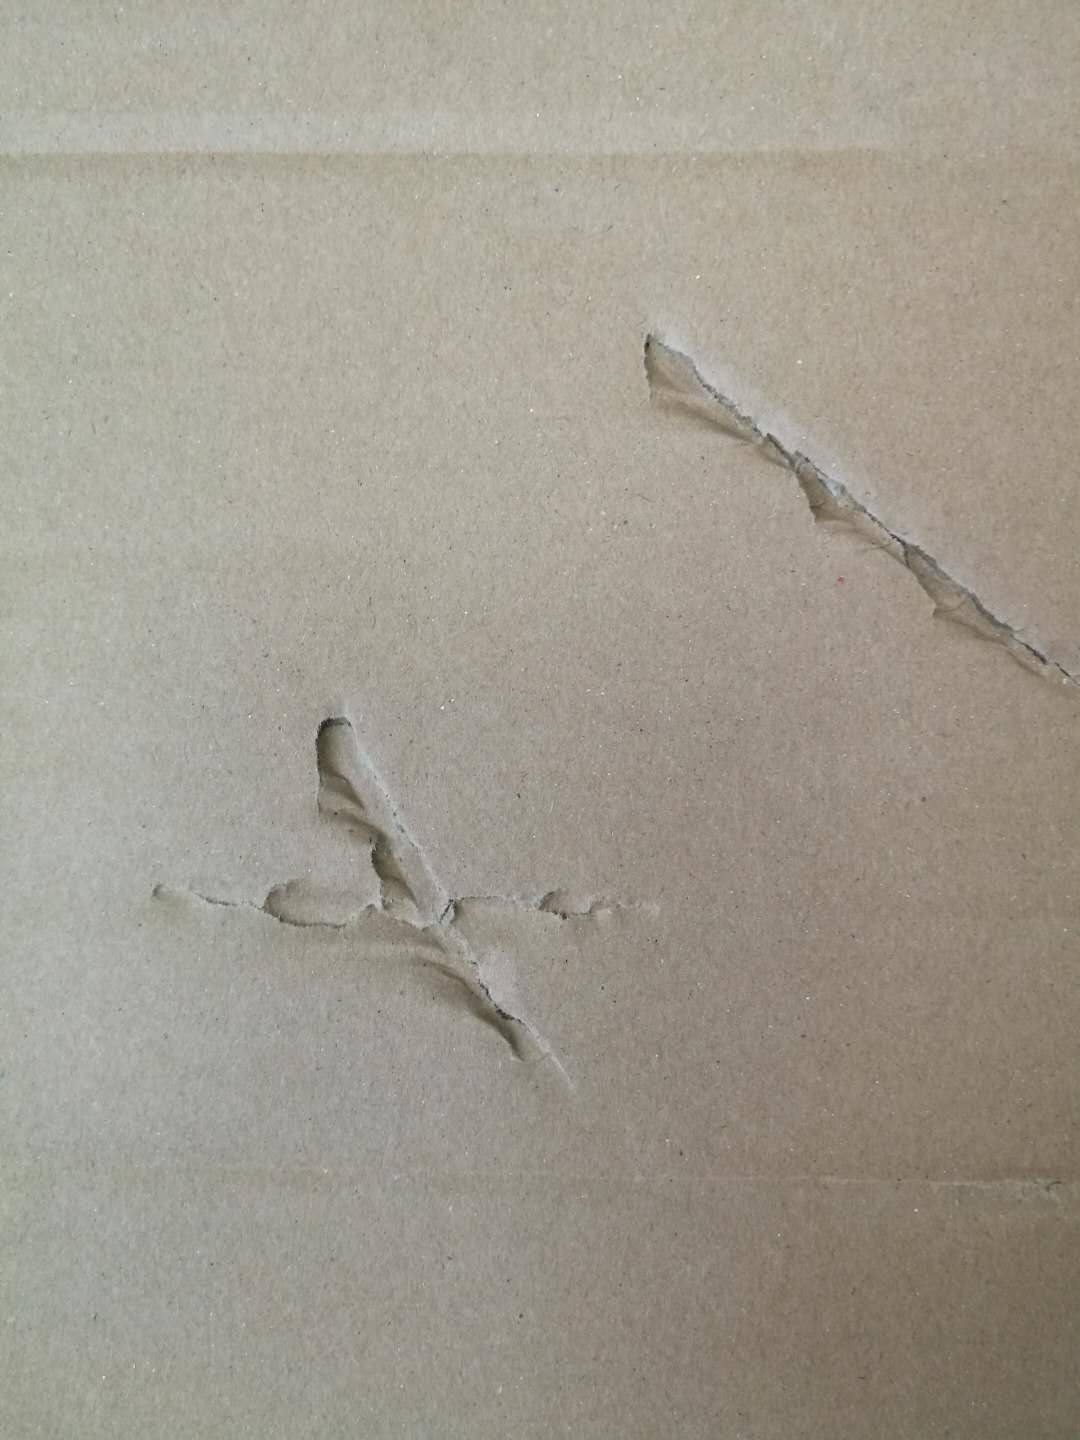defect: (119, 692, 703, 1159), (599, 298, 1080, 712), (3, 88, 1080, 237)
